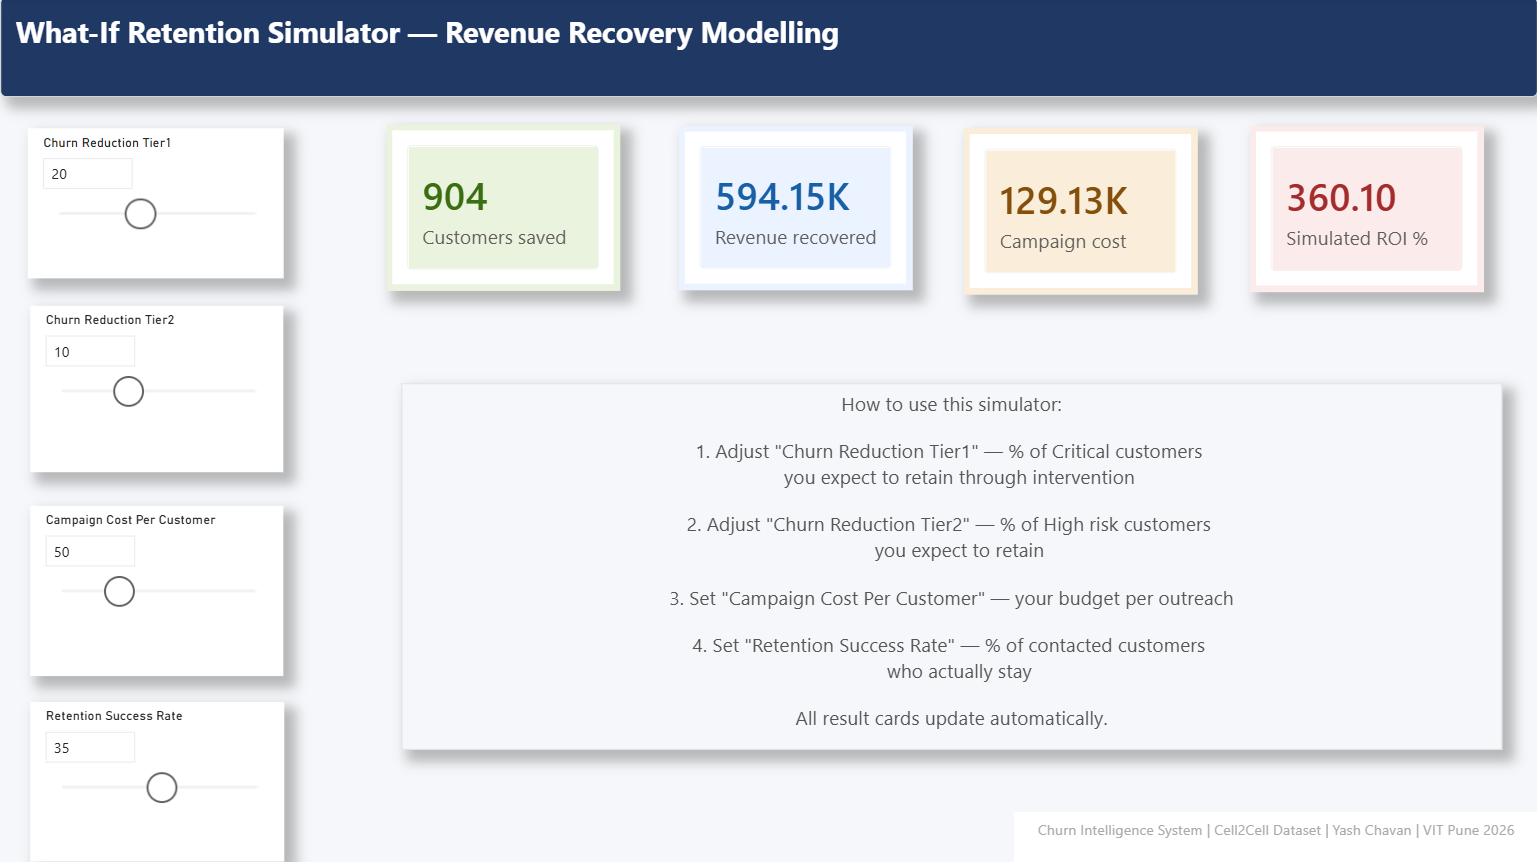

The dashboard page shown, as its layout file describes it:
{"tool":"powerbi","page":{"name":"What-If Simulation","canvas":[1280,720],"ordinal":2},"visuals":[{"type":"slicer","fields":{"Values":["Parameter.Parameter"]},"box":[24,109.2,212.5,125],"z":0},{"type":"slicer","fields":{"Values":["Parameter 2.Parameter"]},"box":[26.2,256.2,210,138.8],"z":1000},{"type":"slicer","fields":{"Values":["Parameter 3.Parameter"]},"box":[26.5,422.5,210,141.2],"z":2000},{"type":"slicer","fields":{"Values":["Parameter 4.Parameter"]},"box":[25.5,586.2,211.2,133.8],"z":3000},{"type":"textbox","box":[1.1,0,1278.9,83.3],"z":4000},{"type":"cardVisual","fields":{"Data":["holdout_scored.Simulated Customers Saved"]},"box":[322.1,106.1,194.1,138.1],"z":5000},{"type":"cardVisual","fields":{"Data":["holdout_scored.Simulated Revenue Recovered"]},"box":[565.2,107.5,194.1,136.7],"z":6000},{"type":"cardVisual","fields":{"Data":["holdout_scored.Simulated Campaign Cost"]},"box":[802,109.1,194.1,138.1],"z":7000},{"type":"cardVisual","fields":{"Data":["holdout_scored.Simulated ROI"]},"box":[1040.5,107.2,194.1,138.1],"z":8000},{"type":"textbox","box":[334.3,320.8,915,305],"z":9000},{"type":"textbox","box":[844,677.5,436,42.5],"z":10000}]}

Visuals, with their boxes in screenshot pixels (x1, y1, x2, y2), scaled from the page's 1280x720 canvas onto the 1537x862 screenshot:
slicer - Parameter.Parameter: 29:131:284:280
slicer - Parameter 2.Parameter: 31:307:284:473
slicer - Parameter 3.Parameter: 32:506:284:675
slicer - Parameter 4.Parameter: 31:702:284:861
textbox: 1:0:1536:100
cardVisual - holdout_scored.Simulated Customers Saved: 387:127:620:292
cardVisual - holdout_scored.Simulated Revenue Recovered: 679:129:912:292
cardVisual - holdout_scored.Simulated Campaign Cost: 963:131:1196:296
cardVisual - holdout_scored.Simulated ROI: 1249:128:1482:294
textbox: 401:384:1500:749
textbox: 1013:811:1536:861
